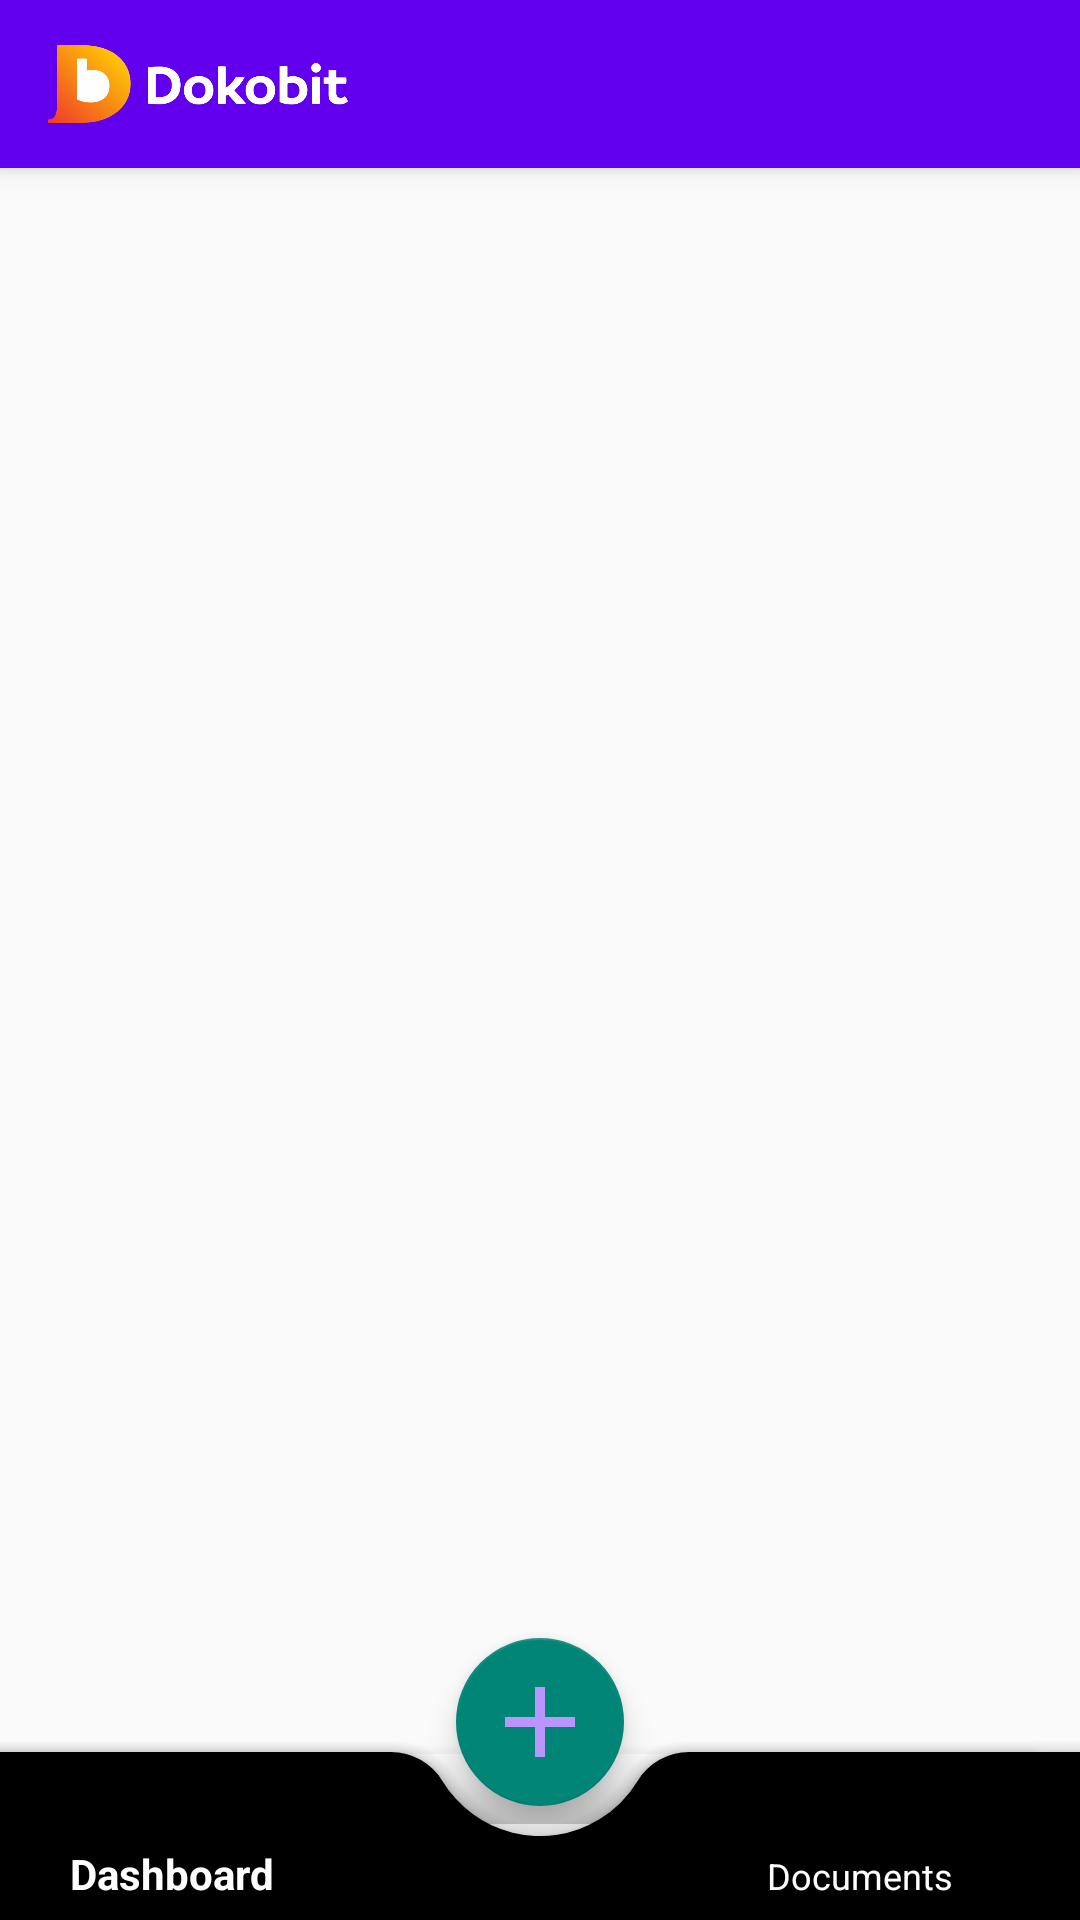

Where to tap for icons on this 1080x1920 app screen, as (x=x, y=y):
Add item: (x=540, y=1752)
